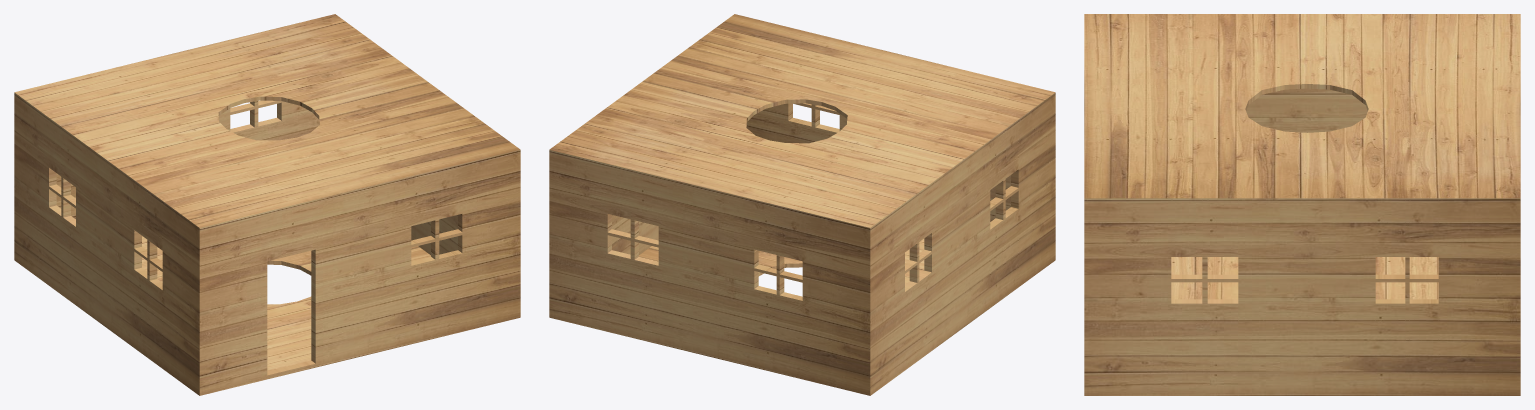
The model's file is treehouse.fbx.
3 views of the same model, side by side, from view 1: azimuth 30°, elevation 25°; view 2: azimuth 150°, elevation 25°; view 3: azimuth 270°, elevation 25° (orthographic). The views are drawn at different scales.
Parts seen in each view (by area): view 1: House; view 2: House; view 3: House.
Part boxes in pixels (box(x1,y1,x2,y2)): House: box(14, 14, 520, 395); House: box(549, 14, 1055, 395); House: box(1084, 14, 1520, 395).
Bounding box in the file's own units: 420 × 210 × 420.
